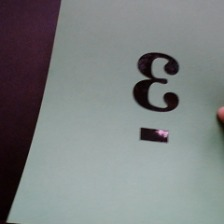green3: (129, 47, 187, 147)
